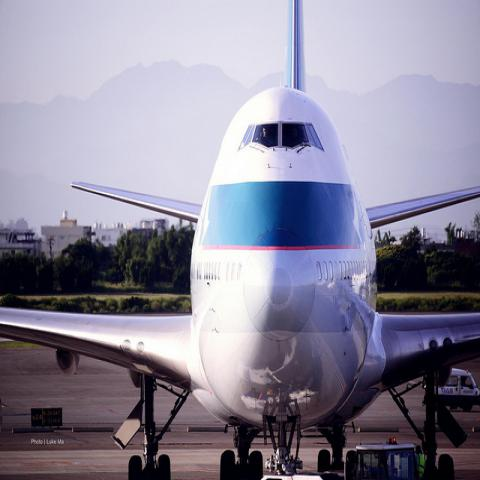truck: (344, 438, 419, 479), (437, 366, 479, 412)
